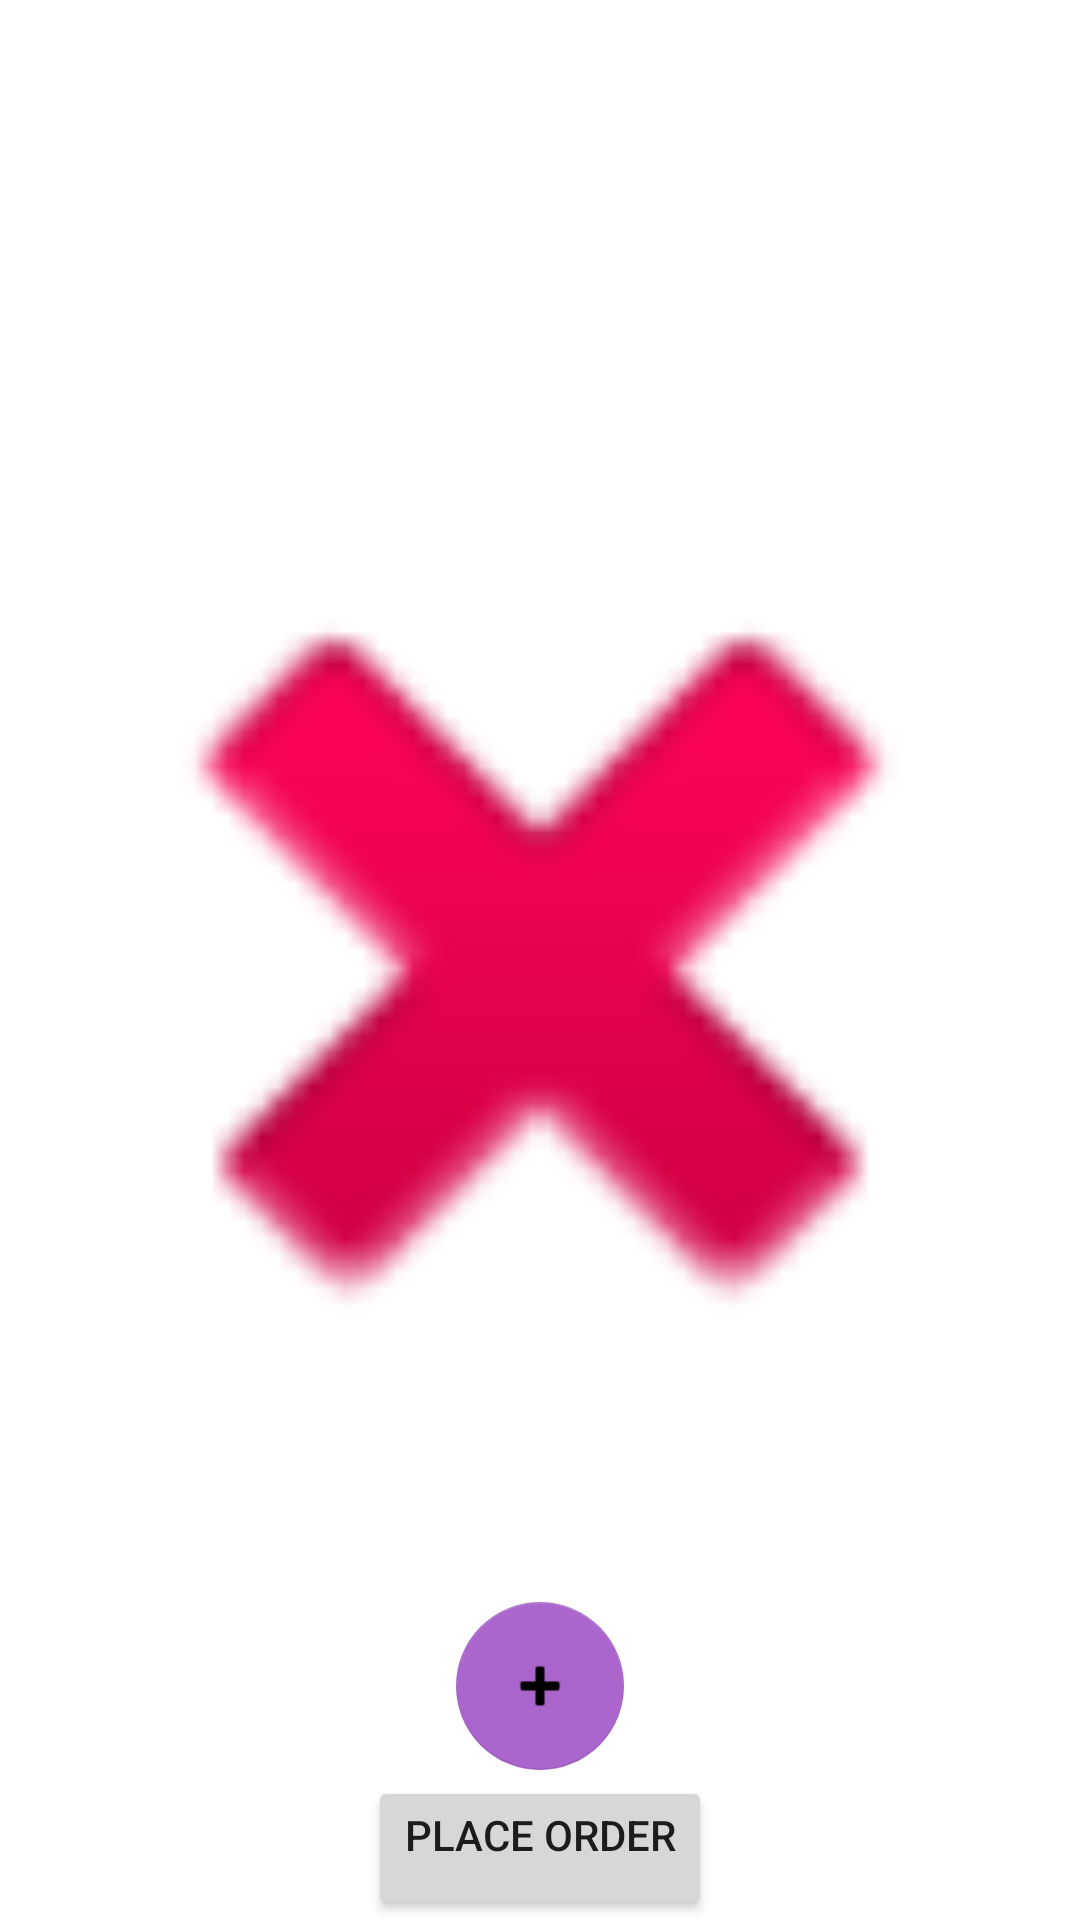

Screen size 1080px×1920px. Icon name, then its center in pixels as point (x, y):
add: point (540, 1686)
